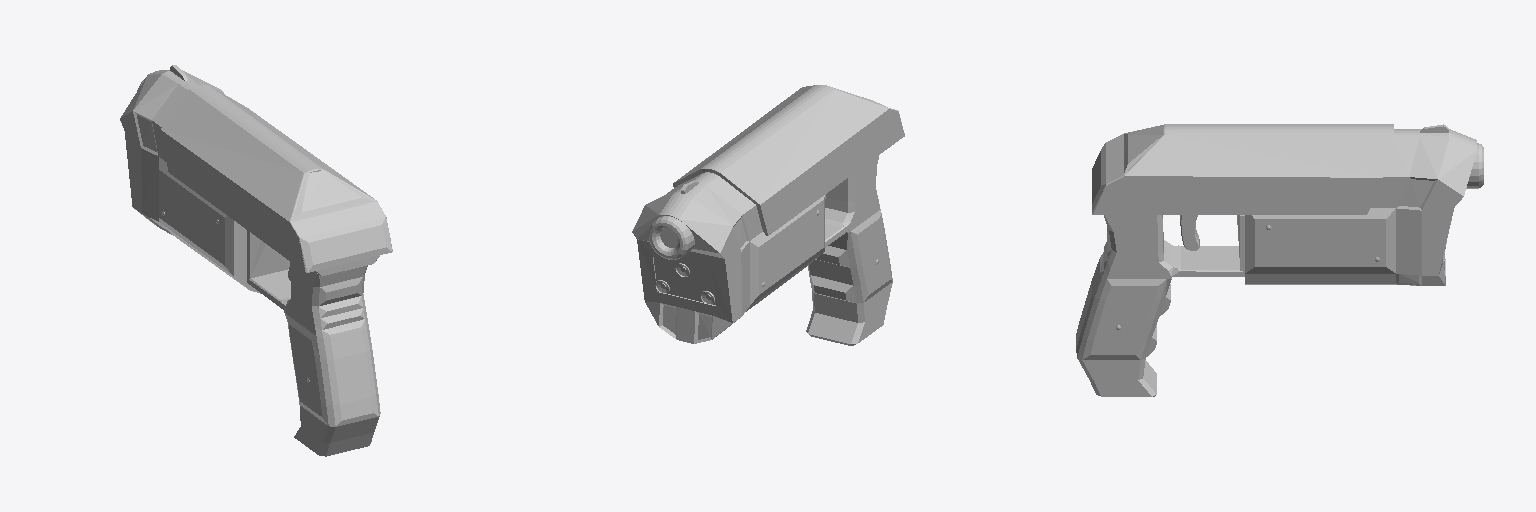
The picture shows the model from 3 angles: view 1: azimuth 30°, elevation 25°; view 2: azimuth 150°, elevation 25°; view 3: azimuth 270°, elevation 25°; orthographic projection.
Parts seen in each view (by area): view 1: sb; view 2: sb; view 3: sb.
Part boxes in pixels (x1,y1,x2,y2): sb: (120, 65, 392, 456); sb: (632, 85, 904, 345); sb: (1076, 124, 1483, 396).
Size of the model in its own units: 5.69 by 15.84 by 22.37.